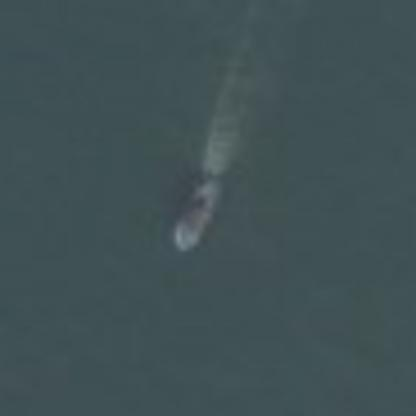ship: (166, 170, 228, 262)
